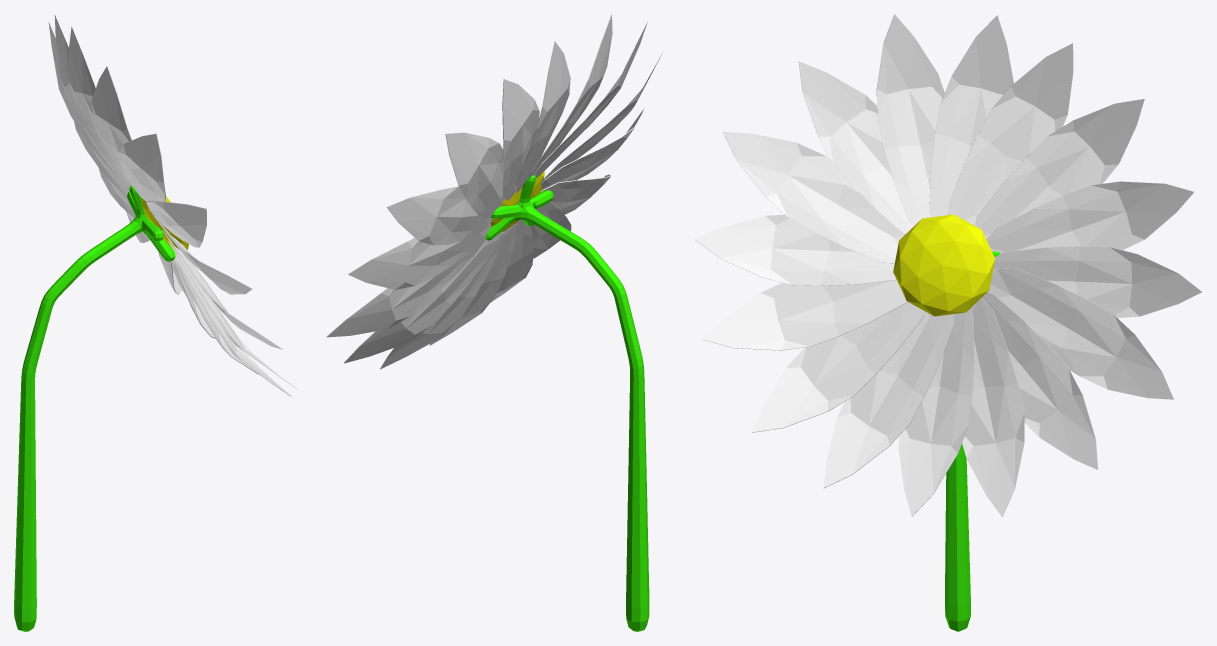
File: flower - completed.obj
The picture shows the model from 3 angles, left to right: view 1: azimuth 30°, elevation 25°; view 2: azimuth 150°, elevation 25°; view 3: azimuth 270°, elevation 25°; orthographic projection. The views are drawn at different scales.
Parts seen in each view (by area): view 1: Plane.009_Plane.018; view 2: Plane.009_Plane.018; view 3: Plane.009_Plane.018.
Part boxes in pixels (<box>): Plane.009_Plane.018: <box>14,14,297,631</box>; Plane.009_Plane.018: <box>326,14,665,631</box>; Plane.009_Plane.018: <box>694,14,1202,631</box>.
Bounding box in the file's own units: 7.9 × 17.89 × 12.64.
